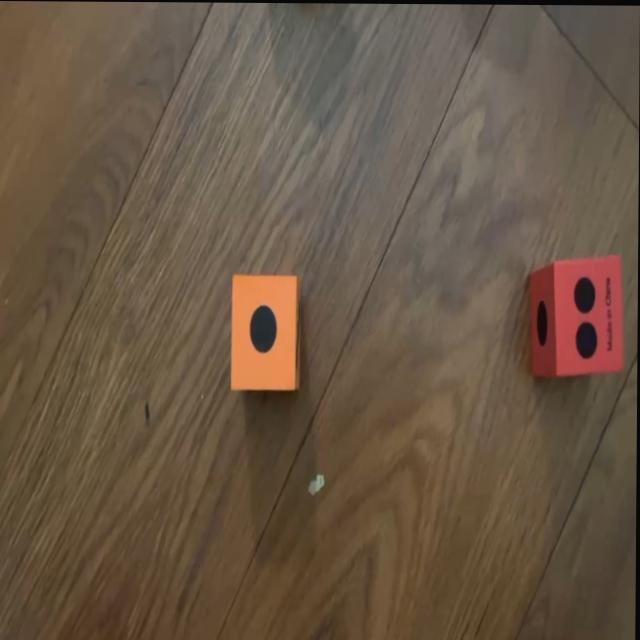red_block: (529, 251, 624, 378)
